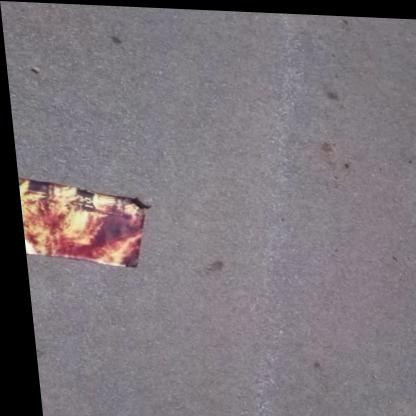fire-poster: (15, 175, 155, 269)
